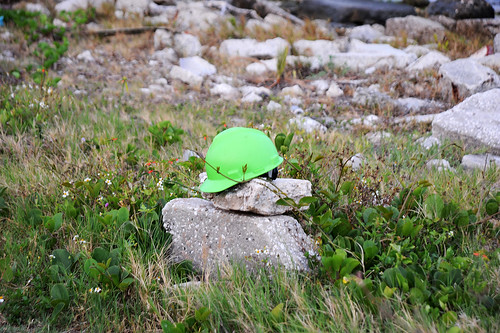hardhat: (195, 126, 286, 202)
